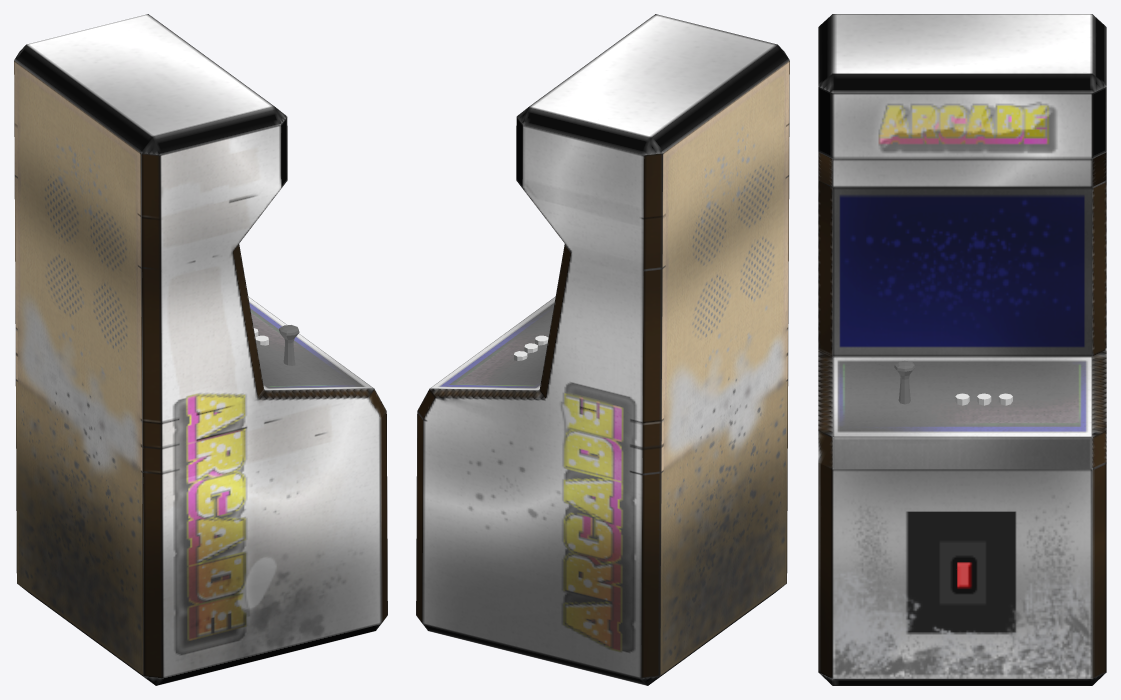
The model's file is arcade_machine_standup.glb.
The picture shows the model from 3 angles, left to right: view 1: azimuth 30°, elevation 25°; view 2: azimuth 150°, elevation 25°; view 3: azimuth 270°, elevation 25°; orthographic projection. The views are drawn at different scales.
Visible parts, largest first — view 1: Cabinet_0; view 2: Cabinet_0; view 3: Cabinet_0, Vert.003_2, buttons_1.
Part boxes in pixels (x1,y1,x2,y2): Cabinet_0: (14, 14, 387, 685); Cabinet_0: (416, 14, 789, 685); Cabinet_0: (818, 14, 1106, 685); Vert.003_2: (894, 360, 915, 404); buttons_1: (955, 393, 1012, 405).
Size of the model in its own units: 2.02 by 4.31 by 2.
3 materials, 1 textured.
